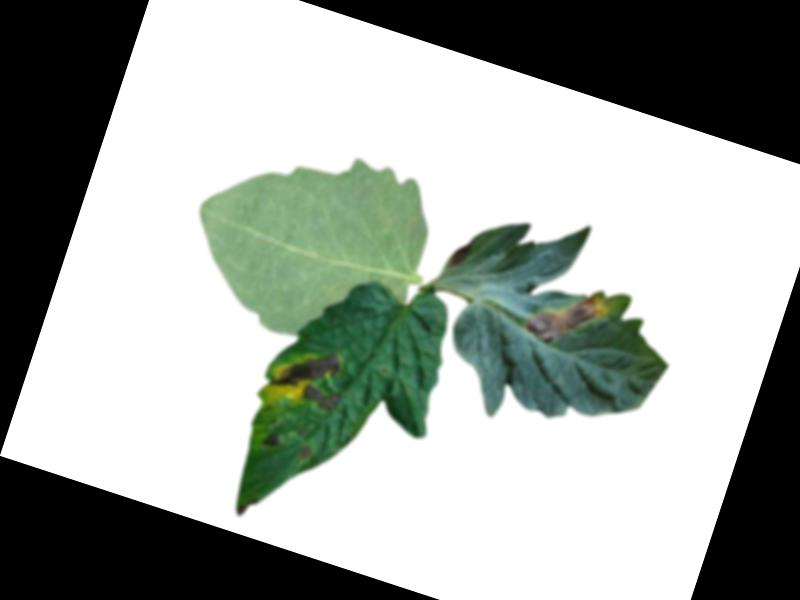Early_blight: (519, 272, 613, 359), (266, 334, 355, 415), (232, 491, 259, 520), (257, 425, 282, 451), (297, 442, 314, 458)
